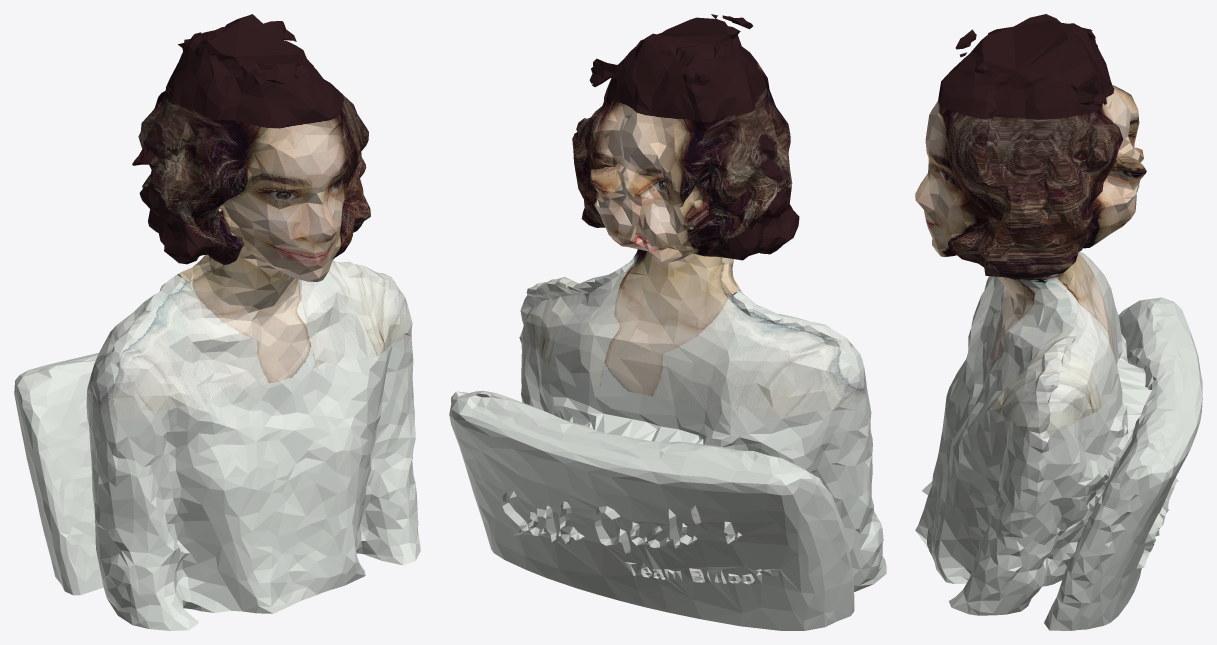
File: salome_buste.gltf
3 renders of one model, left to right at view 1: azimuth 30°, elevation 25°; view 2: azimuth 150°, elevation 25°; view 3: azimuth 270°, elevation 25°, orthographic. The views are drawn at different scales.
Visible parts, largest first — view 1: Salomé Final; view 2: Salomé Final; view 3: Salomé Final.
Part boxes in pixels (bbox=[...]): Salomé Final: bbox=[14, 14, 420, 630]; Salomé Final: bbox=[449, 14, 886, 630]; Salomé Final: bbox=[915, 14, 1202, 630].
Size of the model in its own units: 1.95 by 2.7 by 1.36.
Materials: 1 (1 with a texture image).
